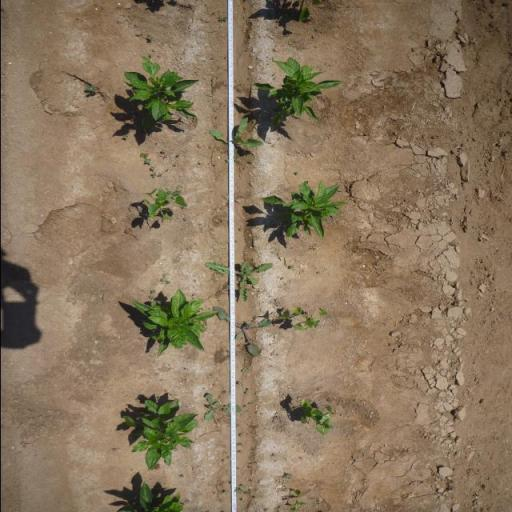plant: (251, 58, 346, 125), (131, 288, 219, 357), (255, 181, 348, 240), (117, 398, 200, 463), (119, 60, 201, 122), (114, 479, 190, 512), (137, 186, 187, 224), (297, 397, 337, 435), (274, 308, 328, 332), (288, 487, 309, 512)
weed: (201, 258, 275, 304), (214, 304, 272, 358), (208, 118, 263, 150), (201, 392, 243, 422), (82, 84, 98, 97), (166, 189, 180, 200), (306, 243, 320, 251), (160, 273, 170, 284), (150, 463, 160, 472), (282, 473, 292, 480), (216, 16, 227, 22), (233, 488, 243, 494), (146, 35, 154, 42), (143, 158, 151, 165), (139, 152, 148, 158), (121, 134, 129, 140), (243, 490, 252, 495), (150, 172, 157, 178), (149, 289, 157, 294), (240, 367, 248, 372), (148, 166, 154, 172), (236, 380, 242, 386), (234, 422, 240, 428), (158, 149, 165, 154), (147, 295, 154, 300), (235, 443, 243, 447), (288, 264, 294, 269), (293, 170, 300, 174), (236, 450, 243, 454), (240, 498, 245, 503), (222, 490, 227, 495), (147, 54, 153, 58), (223, 285, 229, 289), (238, 432, 242, 438), (178, 474, 184, 478), (239, 484, 246, 487), (248, 402, 254, 404)
